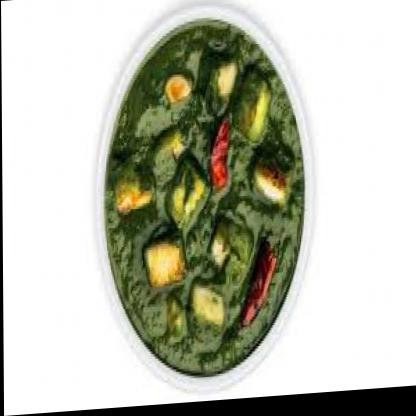palak_paneer: (102, 15, 304, 385)
